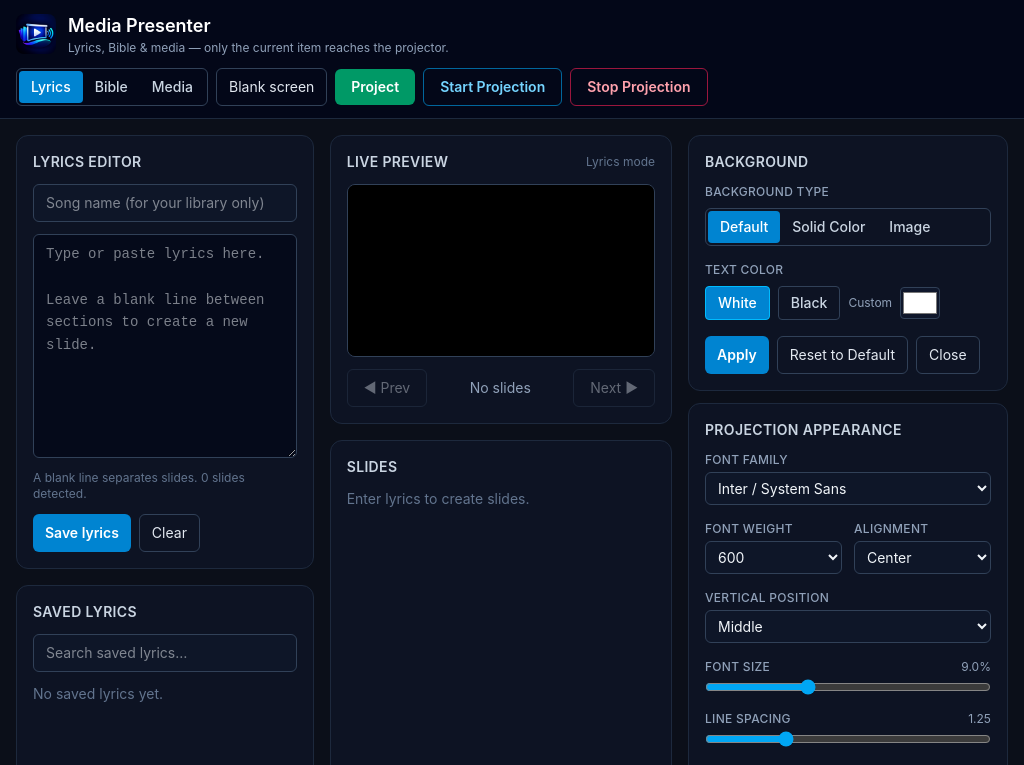
Test: Operator › notifies when the projection window is blocked
The image size is (1024, 765).
Check: the text "No saved lyrics yet." is shown, box [33, 685, 163, 702]
Click the button "Start Projection" at point(493, 87), box [423, 68, 562, 106]
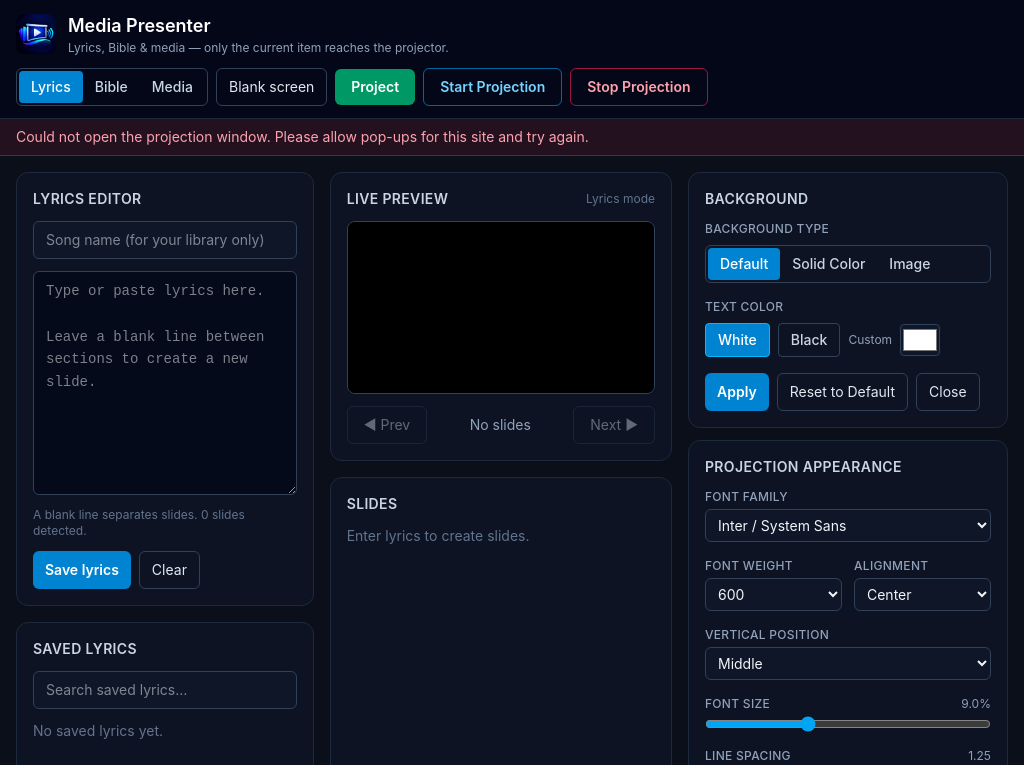
Check: the text "allow pop-ups" is shown, box [16, 128, 589, 145]
